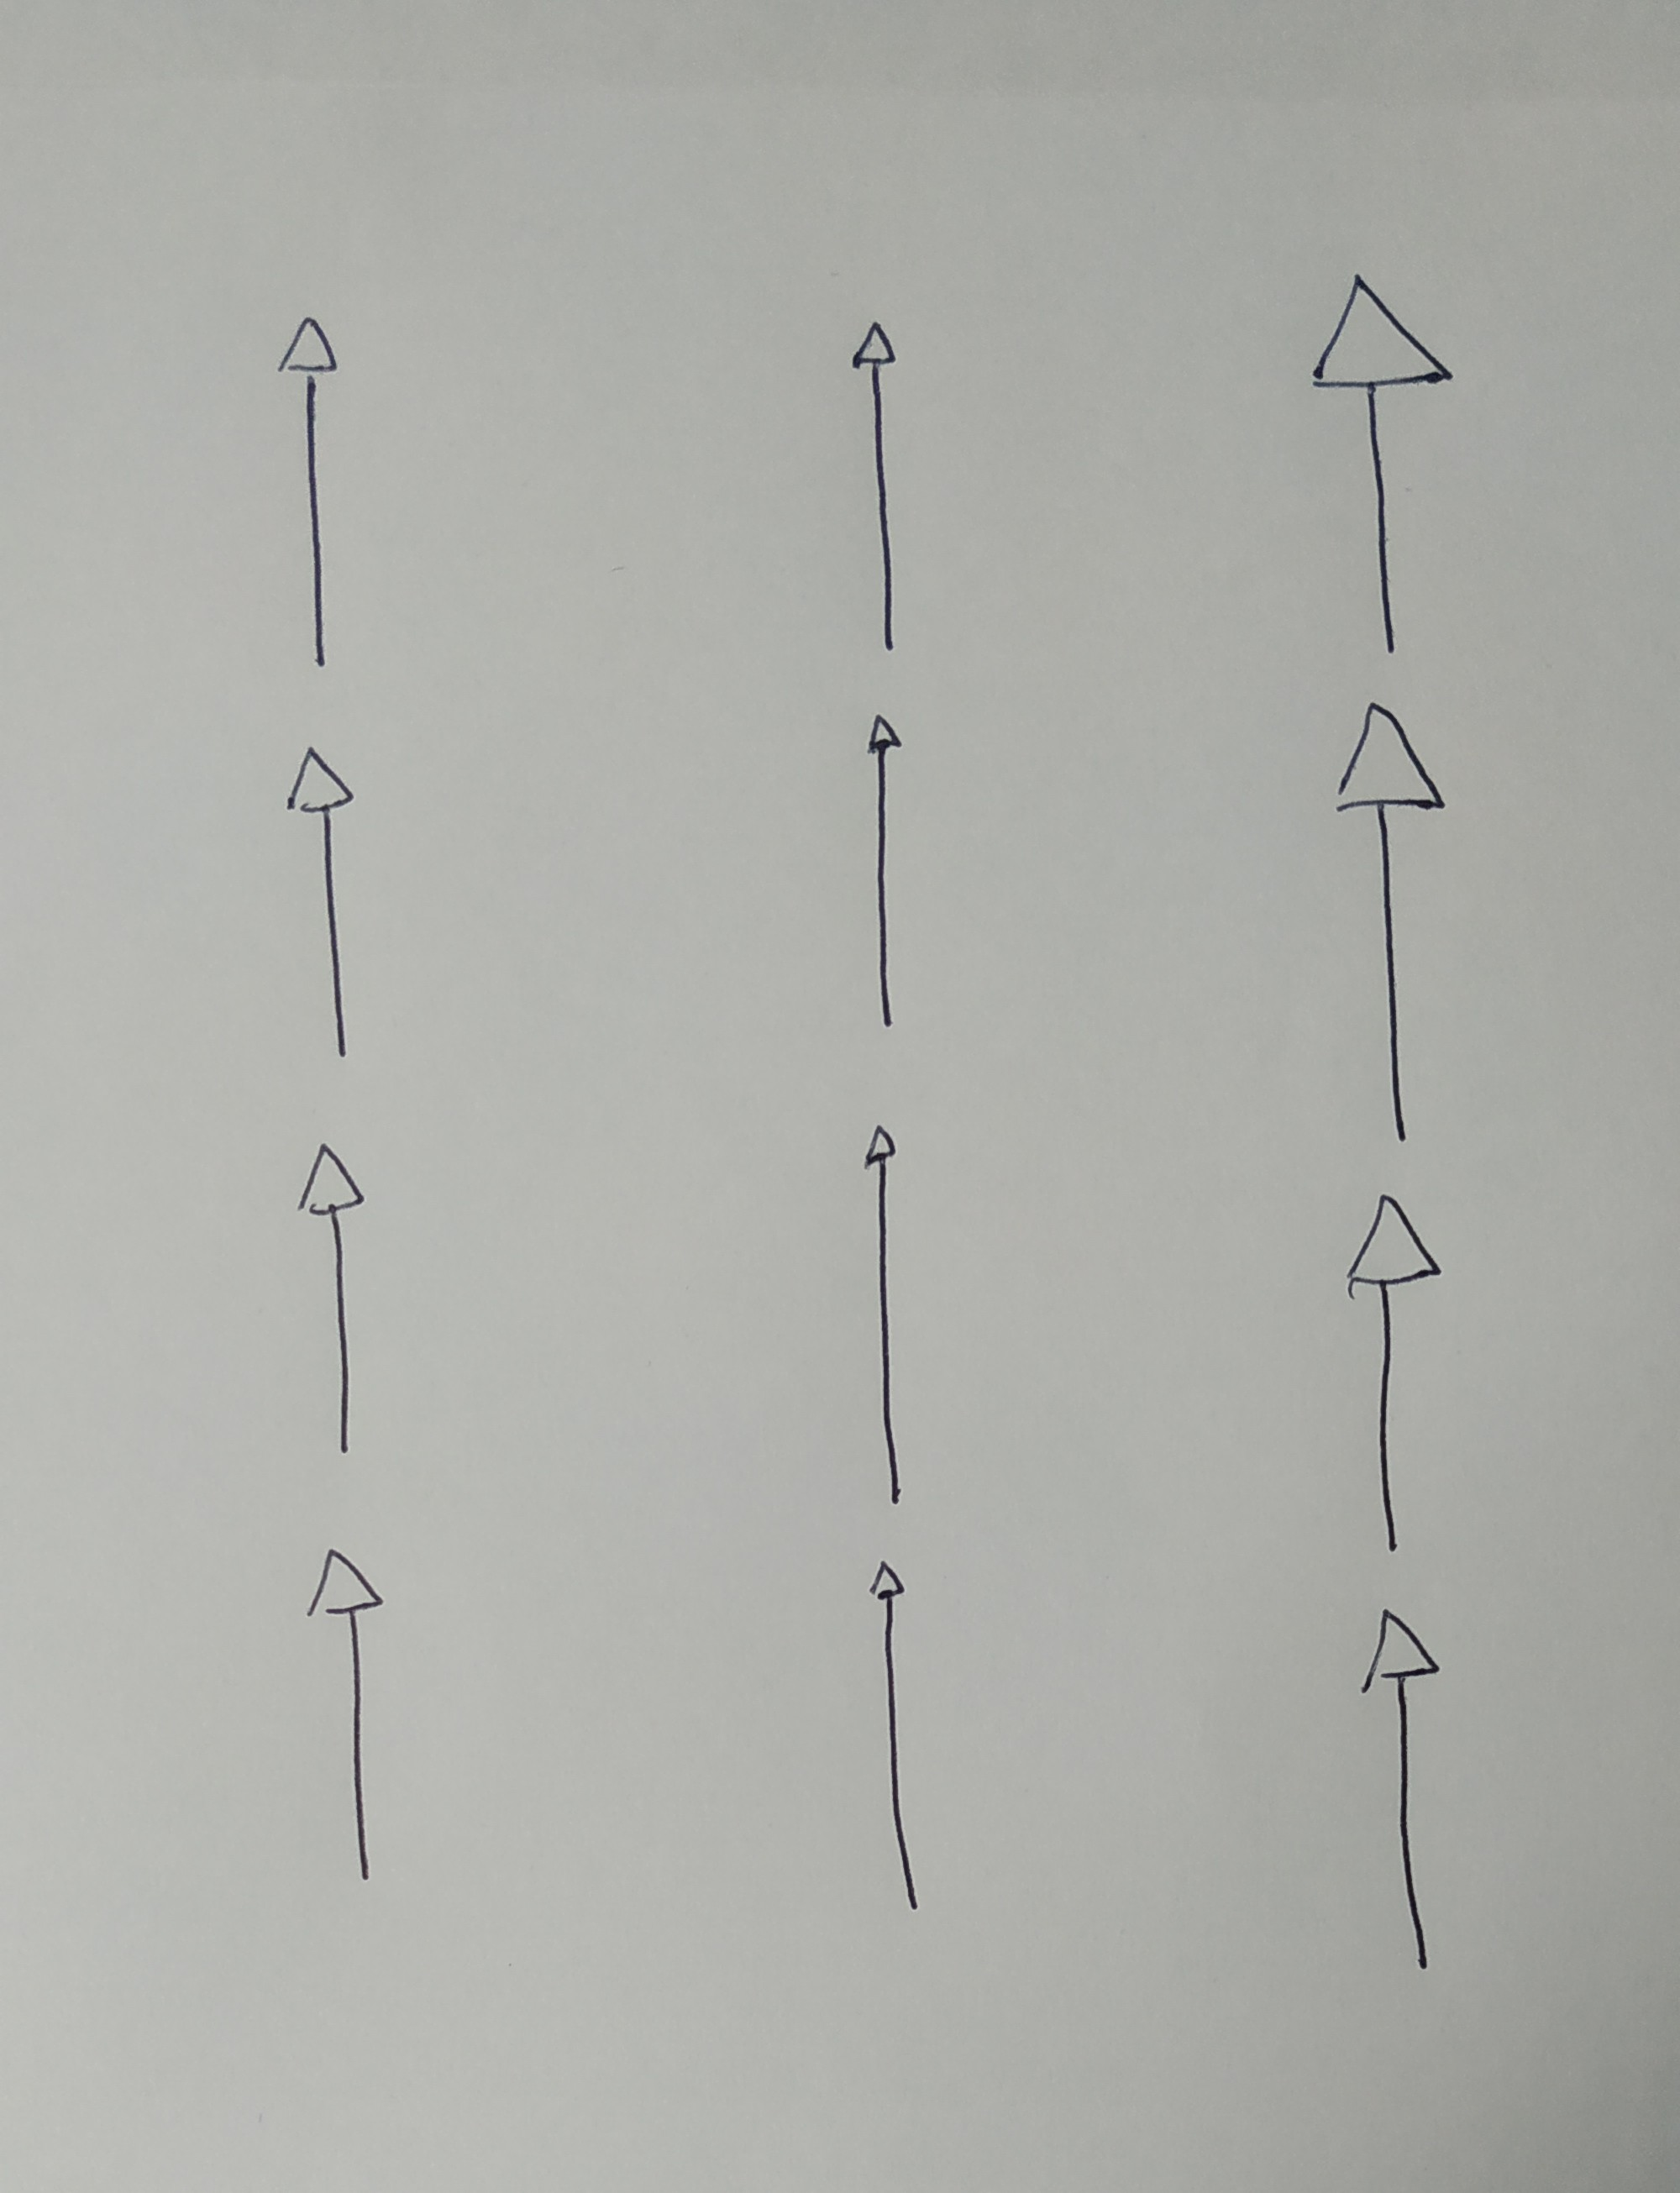arrow_line_up: (1311, 272, 1454, 656), (1327, 702, 1447, 1147), (1346, 1193, 1445, 1560), (1357, 1609, 1454, 1976), (302, 1546, 392, 1886), (277, 312, 344, 679), (293, 1140, 369, 1463), (868, 1561, 935, 1916), (284, 746, 356, 1067), (863, 1124, 914, 1510), (851, 325, 905, 663), (865, 713, 902, 1036)
